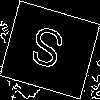S: (25, 25, 67, 79)
